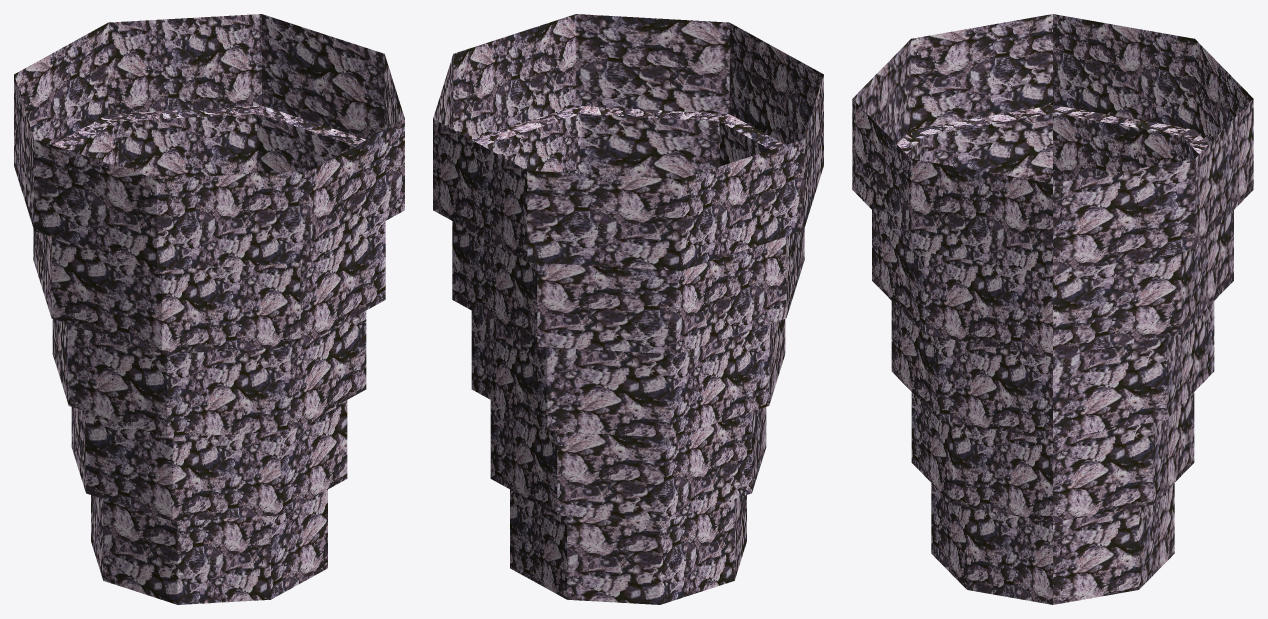
The model's file is OceanTest_All_Applied.glb.
3 renders of one model, left to right at view 1: azimuth 30°, elevation 25°; view 2: azimuth 150°, elevation 25°; view 3: azimuth 270°, elevation 25°, orthographic.
Visible parts, largest first — view 1: Caverne; view 2: Caverne; view 3: Caverne.
Part boxes in pixels (x1=…): Caverne: x1=14, y1=14, x2=404, y2=604; Caverne: x1=433, y1=14, x2=823, y2=604; Caverne: x1=852, y1=14, x2=1253, y2=604.
Size of the model in its own units: 40 by 50.22 by 40.
3 materials, 3 textured.
